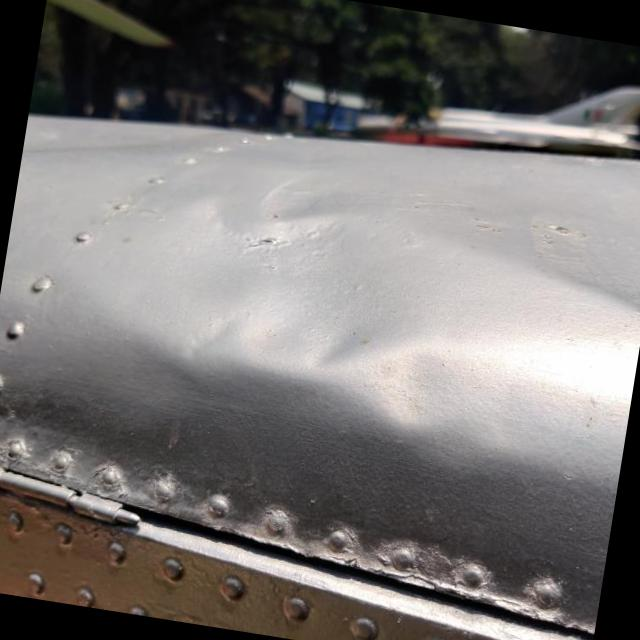Dent: (73, 130, 505, 457)
